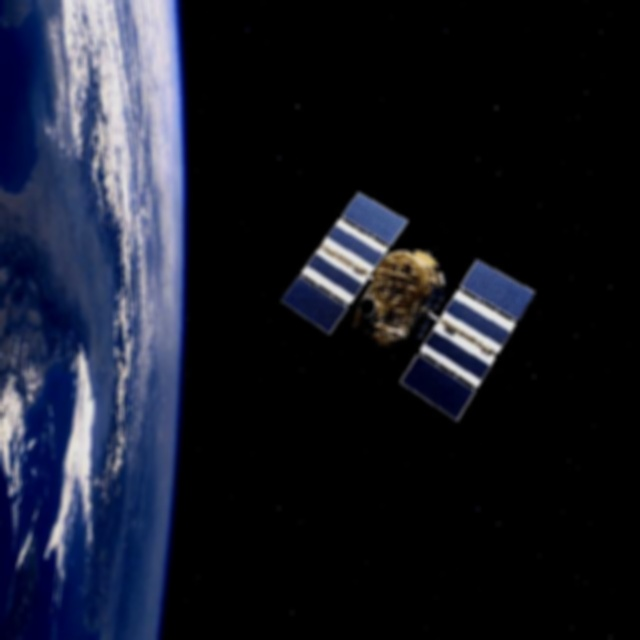medium_debris: (273, 175, 548, 430)
